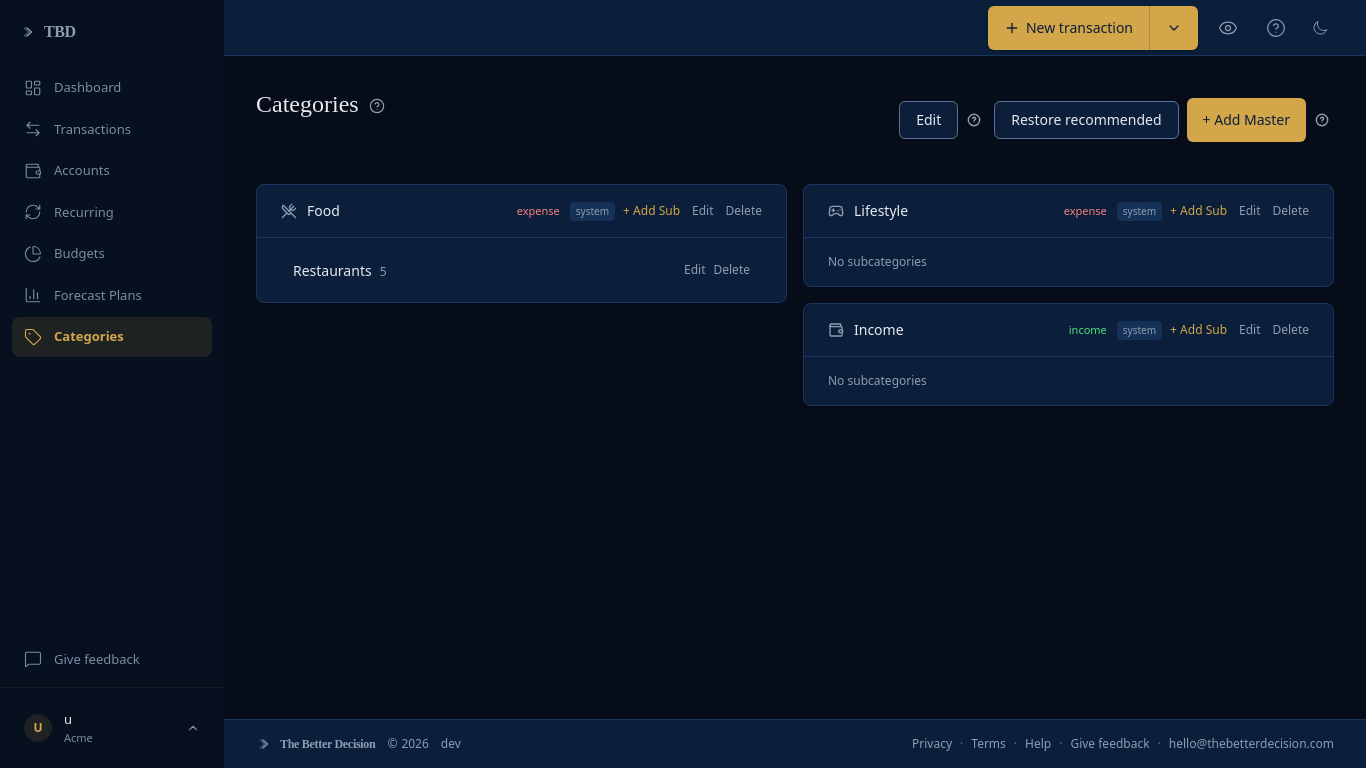
CategoriesPage -C2b render-level gates › Batch Move remains the keyboard/SR-accessible fallback in Edit mode
Expected: the text "Restaurants" is shown, [293,261,372,280]
Click the button with test id "categories-edit-toggle".
click(929, 120)  # box [899,101,958,139]
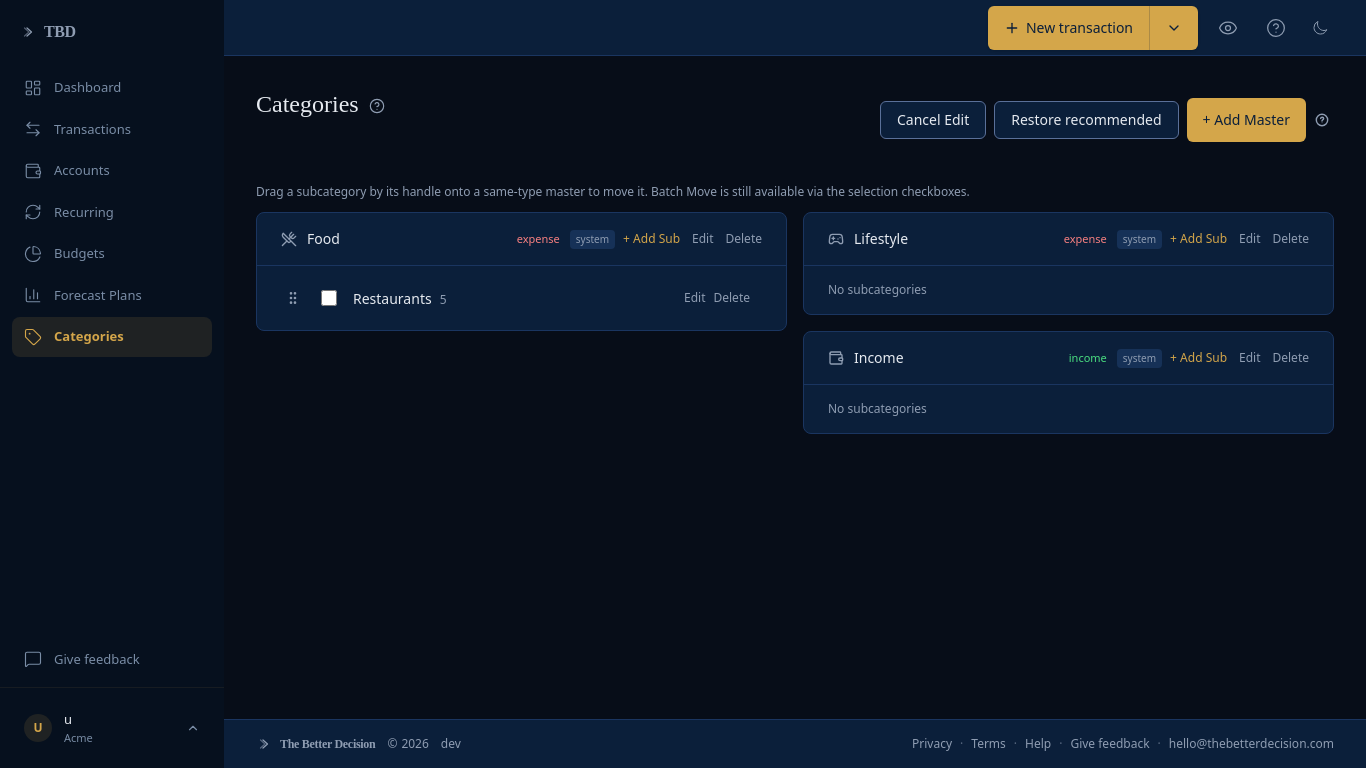
Click the checkbox with test id "sub-checkbox-101".
click(329, 298)  # box [321,290,337,306]
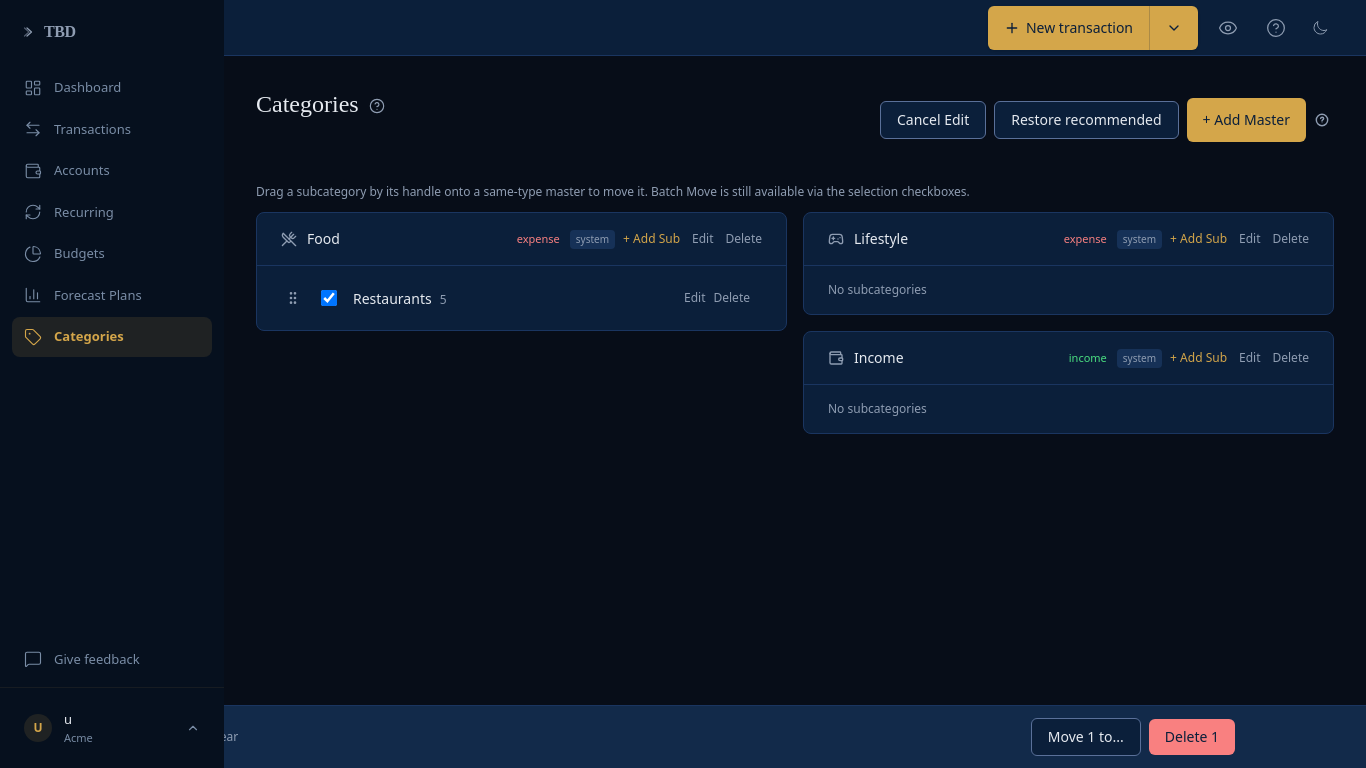
Now the element with test id "batch-action-bar" is shown, box [0,705,1365,767]
Now the button with test id "batch-move-button" is shown, box [1031,718,1141,756]
Now the button with test id "batch-delete-button" is shown, box [1149,719,1235,755]
